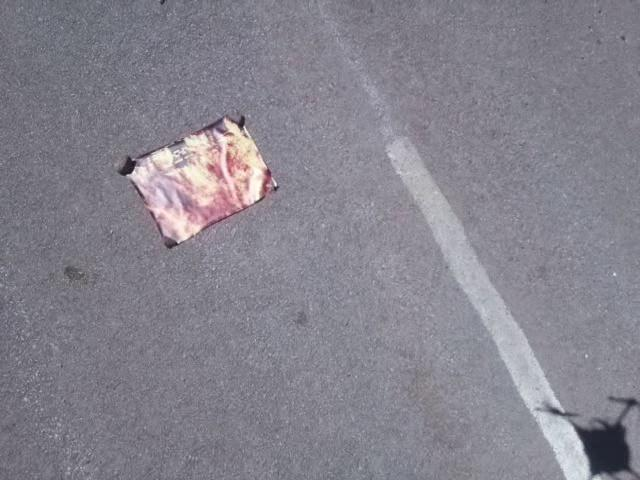fire-poster: (115, 112, 279, 250)
